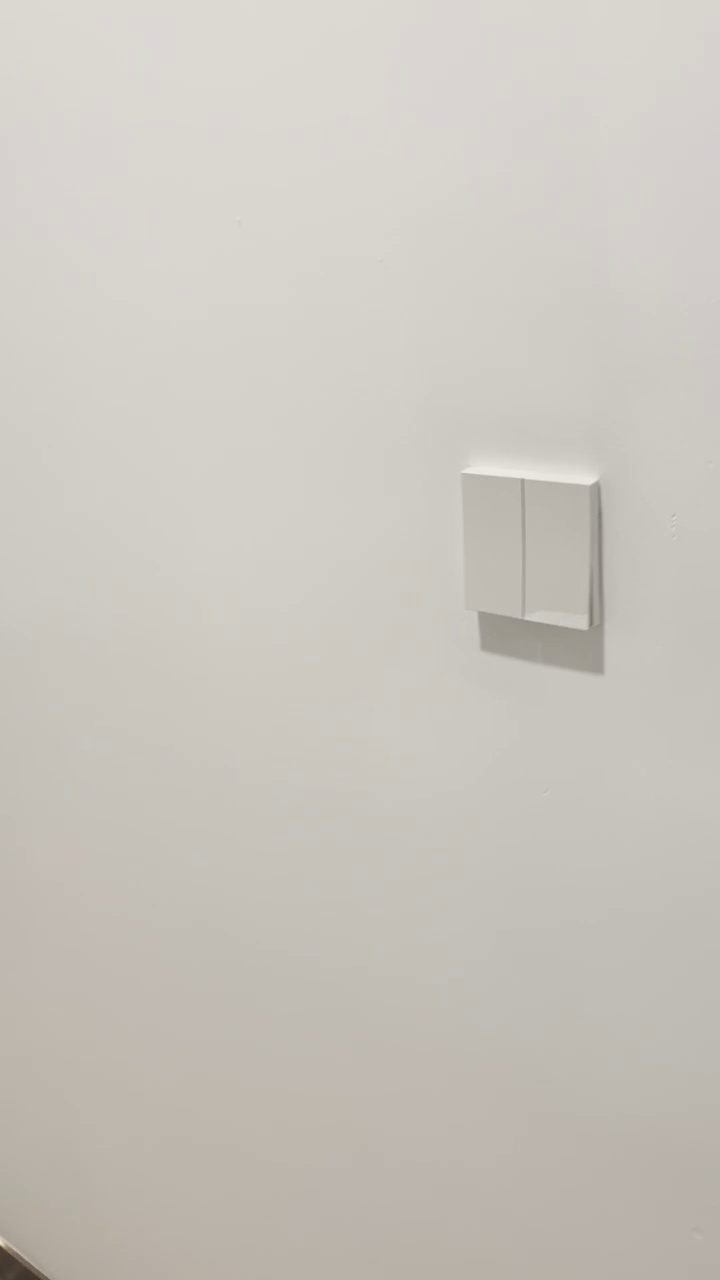button: (450, 462, 607, 635)
